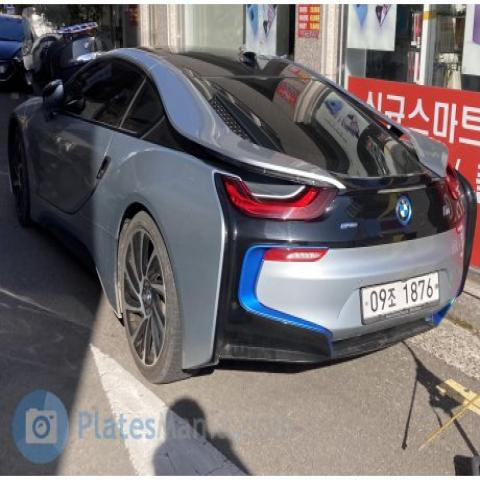LP: (357, 263, 448, 333)
